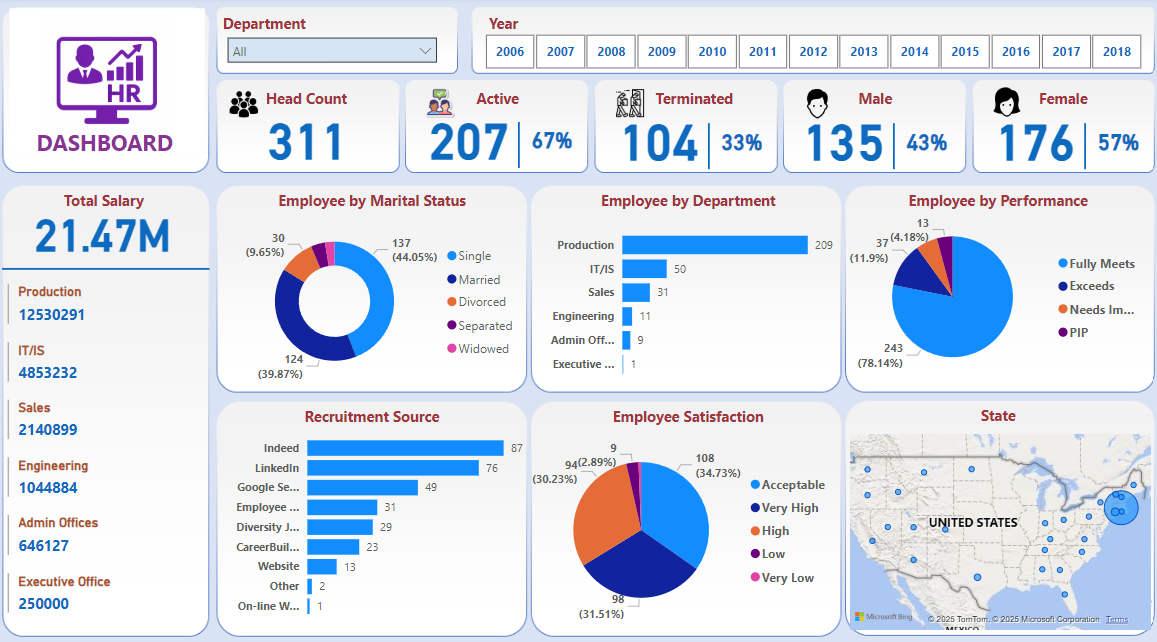

The page's visual inventory and layout, read from the dashboard file:
{"tool":"powerbi","page":{"name":"Page 1","canvas":[1280,720],"ordinal":0},"visuals":[{"type":"image","box":[13.7,12.3,214.1,156.4],"z":0},{"type":"textbox","box":[38.4,138.6,170.2,46.7],"z":1000},{"type":"textbox","box":[242.9,12.3,267.6,43.9],"z":2000},{"type":"slicer","fields":{"Values":["HRData.Department"]},"box":[242.9,34.3,249.7,53.5],"z":3000},{"type":"slicer","fields":{"Values":["HRData.Hiring Year"]},"box":[510.5,34.3,769.8,50.8],"z":4000},{"type":"textbox","box":[535.2,12.3,170.2,43.9],"z":5000},{"type":"textbox","box":[242.9,94.7,193.5,43.9],"z":6000},{"type":"textbox","box":[450.1,94.7,199,43.9],"z":7000},{"type":"textbox","box":[662.8,94.7,192.1,43.9],"z":8000},{"type":"textbox","box":[865.9,94.7,196.2,43.9],"z":9000},{"type":"textbox","box":[1071.7,94.7,197.6,43.9],"z":10000},{"type":"textbox","box":[6.9,207.2,220.9,43.9],"z":11000},{"type":"textbox","box":[242.9,207.2,337.6,43.9],"z":12000},{"type":"textbox","box":[588.7,207.2,340.3,43.9],"z":13000},{"type":"textbox","box":[929,207.2,340.3,43.9],"z":14000},{"type":"textbox","box":[242.9,444.6,337.6,43.9],"z":15000},{"type":"textbox","box":[588.7,444.6,340.3,43.9],"z":16000},{"type":"textbox","box":[929,443.2,340.3,43.9],"z":17000},{"type":"card","fields":{"Values":["All Data.HeadCount"]},"box":[262.1,118,157.8,67.2],"z":18000},{"type":"group","id":"g1","title":"Group 1","box":[447,118,200.3,70],"z":19000},{"type":"card","fields":{"Values":["All Data.Active"]},"box":[447,118,141.3,67.2],"z":19000,"group":"g1"},{"type":"card","fields":{"Values":["All Data.Terminated"]},"box":[655.6,119.4,141.3,67.2],"z":19000,"group":"g2"},{"type":"card","fields":{"Values":["All Data.Male"]},"box":[858.7,119.4,141.3,67.2],"z":19000,"group":"g3"},{"type":"card","fields":{"Values":["All Data.Female"]},"box":[1068.6,119.4,141.3,67.2],"z":19000,"group":"g4"},{"type":"group","id":"g2","title":"Group 1","box":[655.6,119.4,200.3,70],"z":20000},{"type":"card","fields":{"Values":["All Data.Active %"]},"box":[570.5,129,76.8,56.3],"z":20000,"group":"g1"},{"type":"card","fields":{"Values":["All Data.Terminated %"]},"box":[779.1,130.4,76.8,56.3],"z":20000,"group":"g2"},{"type":"card","fields":{"Values":["All Data.Male %"]},"box":[982.2,130.4,76.8,56.3],"z":20000,"group":"g3"},{"type":"card","fields":{"Values":["All Data.Female %"]},"box":[1192.1,130.4,76.8,56.3],"z":20000,"group":"g4"},{"type":"group","id":"g3","title":"Group 1","box":[858.7,119.4,200.3,70],"z":21000},{"type":"shape","box":[565,137.2,15.1,50.8],"z":21000,"group":"g1"},{"type":"shape","box":[773.6,138.6,15.1,50.8],"z":21000,"group":"g2"},{"type":"shape","box":[976.7,138.6,15.1,50.8],"z":21000,"group":"g3"},{"type":"shape","box":[1186.6,138.6,15.1,50.8],"z":21000,"group":"g4"},{"type":"group","id":"g4","title":"Group 1","box":[1068.6,119.4,200.3,70],"z":22000},{"type":"donutChart","fields":{"Y":["All Data.HeadCount"],"Category":["HRData.MaritalStatus"]},"box":[242.9,238.8,337.6,190.7],"z":23000},{"type":"clusteredBarChart","fields":{"Y":["All Data.HeadCount"],"Category":["HRData.Department"]},"box":[588.7,238.8,340.3,190.7],"z":24000},{"type":"pieChart","fields":{"Y":["All Data.HeadCount"],"Category":["HRData.PerformanceScore"]},"box":[929,229.2,340.3,200.3],"z":25000},{"type":"clusteredBarChart","fields":{"Y":["All Data.HeadCount"],"Category":["HRData.RecruitmentSource"]},"box":[242.9,465.2,340.3,226.4],"z":26000},{"type":"pieChart","fields":{"Y":["All Data.HeadCount"],"Category":["HRData.Satisfaction Status"]},"box":[583.2,466.6,340.3,237.4],"z":27000},{"type":"map","fields":{"Size":["All Data.HeadCount"],"Category":["HRData.State"]},"box":[931.7,474.8,340.3,225],"z":28000},{"type":"card","fields":{"Values":["All Data.Salary"]},"box":[23.3,220.9,185.2,71.4],"z":29000},{"type":"shape","box":[5.5,229.2,227.8,138.6],"z":30000},{"type":"multiRowCard","fields":{"Values":["All Data.Salary","HRData.Department"]},"box":[6.9,310.1,227.8,410.3],"z":31000},{"type":"image","box":[1069,93.3,79.6,43.9],"z":32000},{"type":"image","box":[859,94.7,83.7,45.3],"z":33000},{"type":"image","box":[673.8,94.7,42.5,43.9],"z":34000},{"type":"image","box":[461.1,93.3,49.4,45.3],"z":35000},{"type":"image","box":[249.7,97.4,42.5,41.2],"z":35001}]}

Visuals, with their boxes in screenshot pixels (x1, y1, x2, y2), scaled from the page's 1280x720 canvas onto the 1157x642 screenshot:
image: 12 11 206 150
textbox: 35 124 189 165
textbox: 220 11 461 50
slicer - HRData.Department: 220 31 445 78
slicer - HRData.Hiring Year: 461 31 1156 76
textbox: 484 11 638 50
textbox: 220 84 394 124
textbox: 407 84 587 124
textbox: 599 84 773 124
textbox: 783 84 960 124
textbox: 969 84 1147 124
textbox: 6 185 206 224
textbox: 220 185 525 224
textbox: 532 185 840 224
textbox: 840 185 1147 224
textbox: 220 396 525 436
textbox: 532 396 840 436
textbox: 840 395 1147 434
card - All Data.HeadCount: 237 105 380 165
"Group 1" group: 404 105 585 168
card - All Data.Active: 404 105 532 165
card - All Data.Terminated: 593 106 720 166
card - All Data.Male: 776 106 904 166
card - All Data.Female: 966 106 1094 166
"Group 1" group: 593 106 774 169
card - All Data.Active %: 516 115 585 165
card - All Data.Terminated %: 704 116 774 166
card - All Data.Male %: 888 116 957 166
card - All Data.Female %: 1078 116 1147 166
"Group 1" group: 776 106 957 169
shape: 511 122 524 168
shape: 699 124 713 169
shape: 883 124 896 169
shape: 1073 124 1086 169
"Group 1" group: 966 106 1147 169
donutChart - All Data.HeadCount x HRData.MaritalStatus: 220 213 525 383
clusteredBarChart - All Data.HeadCount x HRData.Department: 532 213 840 383
pieChart - All Data.HeadCount x HRData.PerformanceScore: 840 204 1147 383
clusteredBarChart - All Data.HeadCount x HRData.RecruitmentSource: 220 415 527 617
pieChart - All Data.HeadCount x HRData.Satisfaction Status: 527 416 835 628
map - All Data.HeadCount x HRData.State: 842 423 1150 624
card - All Data.Salary: 21 197 188 261
shape: 5 204 211 328
multiRowCard - All Data.Salary x HRData.Department: 6 277 212 641
image: 966 83 1038 122
image: 776 84 852 125
image: 609 84 647 124
image: 417 83 461 124
image: 226 87 264 124
